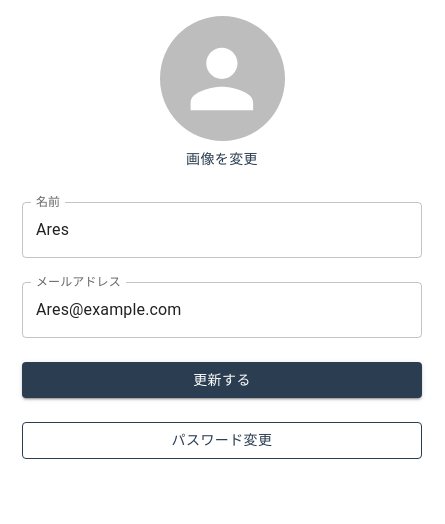
Test: 失敗する場合 › メールアドレスが空白の場合、エラーメッセージが表示される
The width and height of the screenshot is (445, 524).
Clear the field labelled "メールアドレス" at (222, 310), box [22,282,422,338]
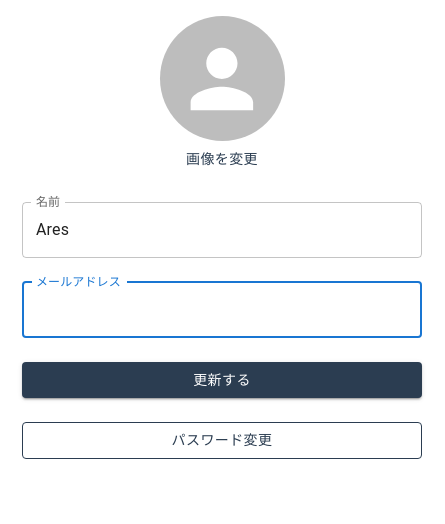
Click the button "更新する" at (222, 380), box [22,362,422,398]
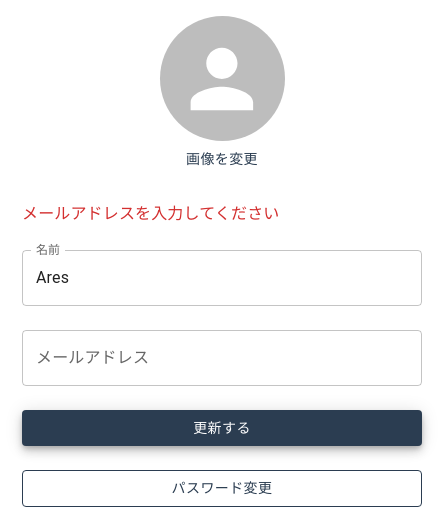
expect the text "メールアドレスを入力してください" is shown: met, box [22,204,280,222]
